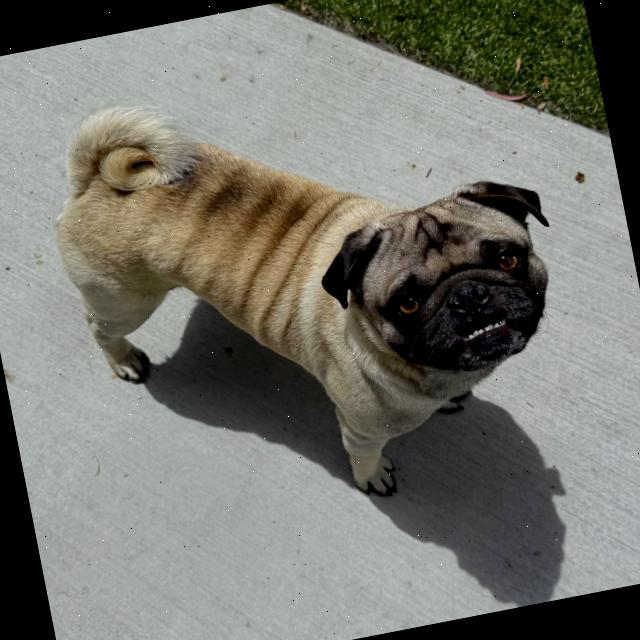pug_dog: (305, 166, 576, 408)
